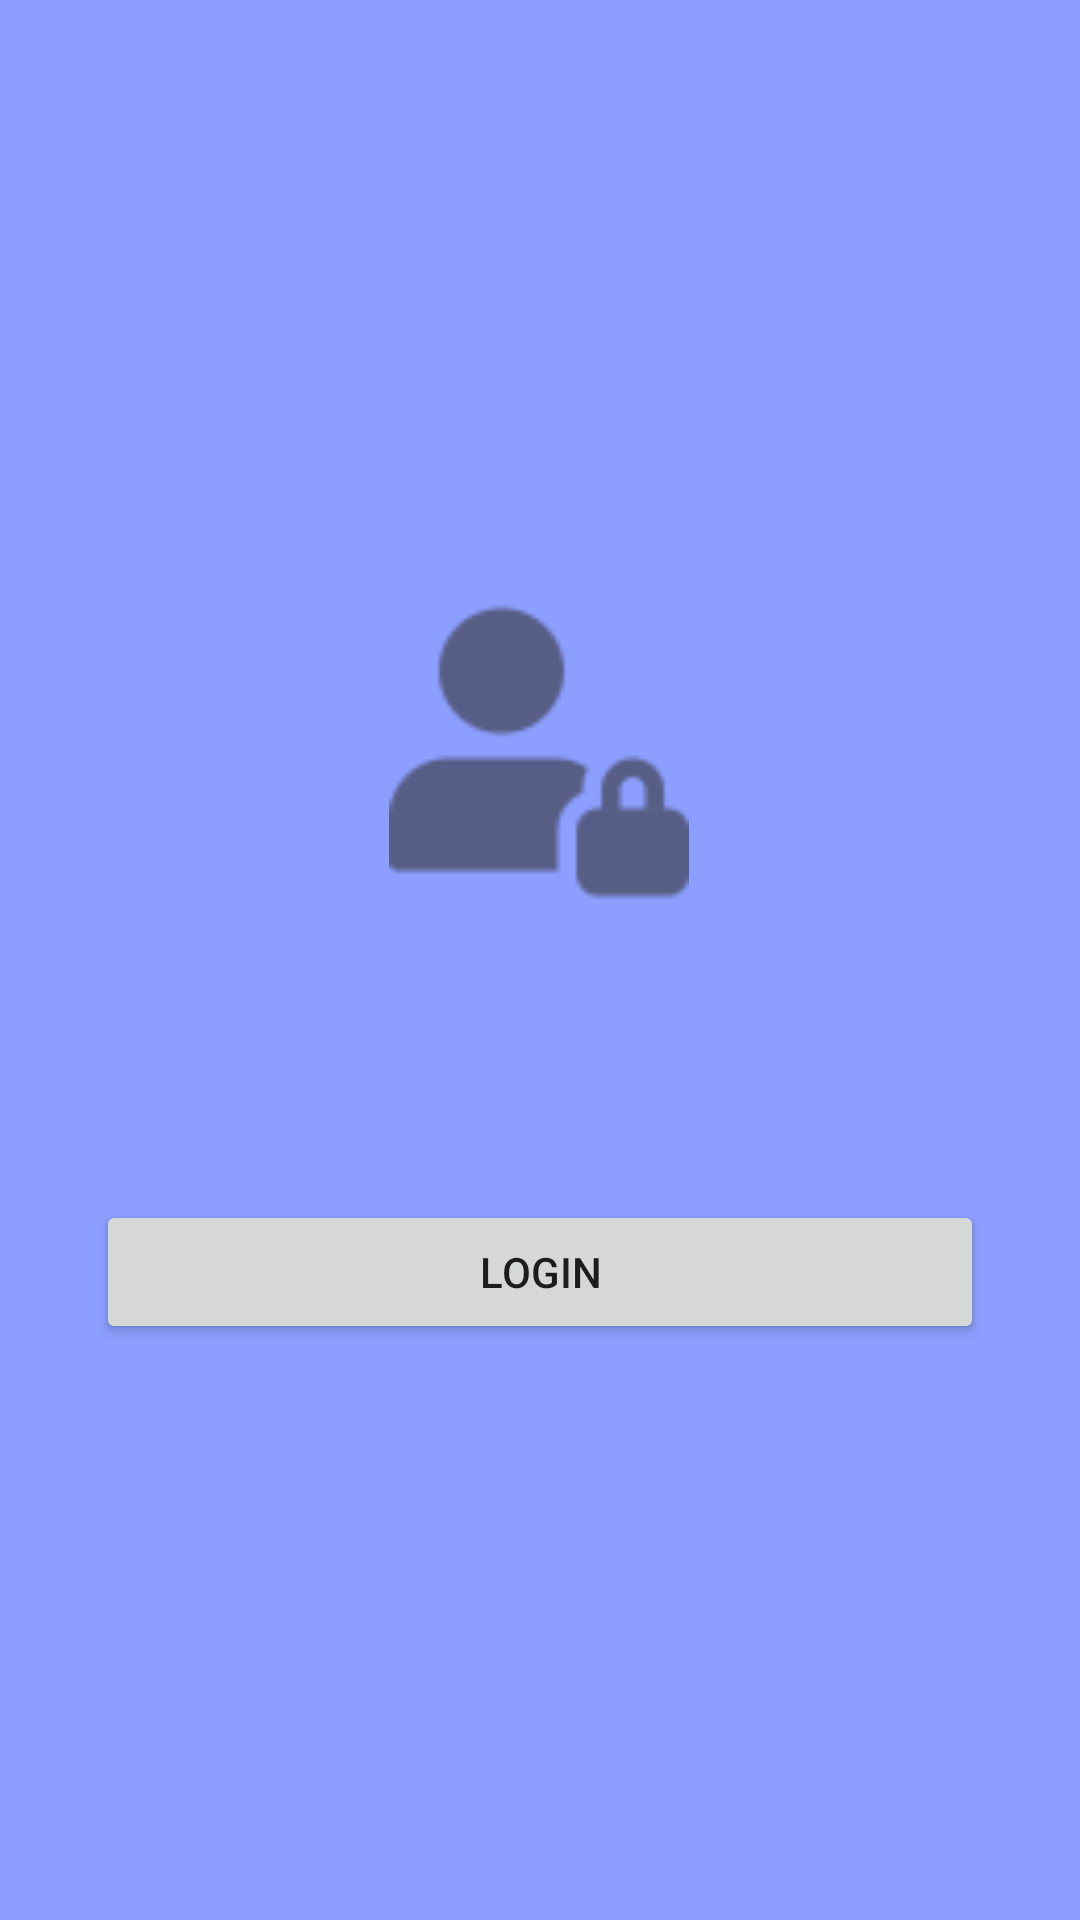

Icons on this 1080px x 1920px Android screen, each with the point to tap as [x,y]:
login: [539,752]
